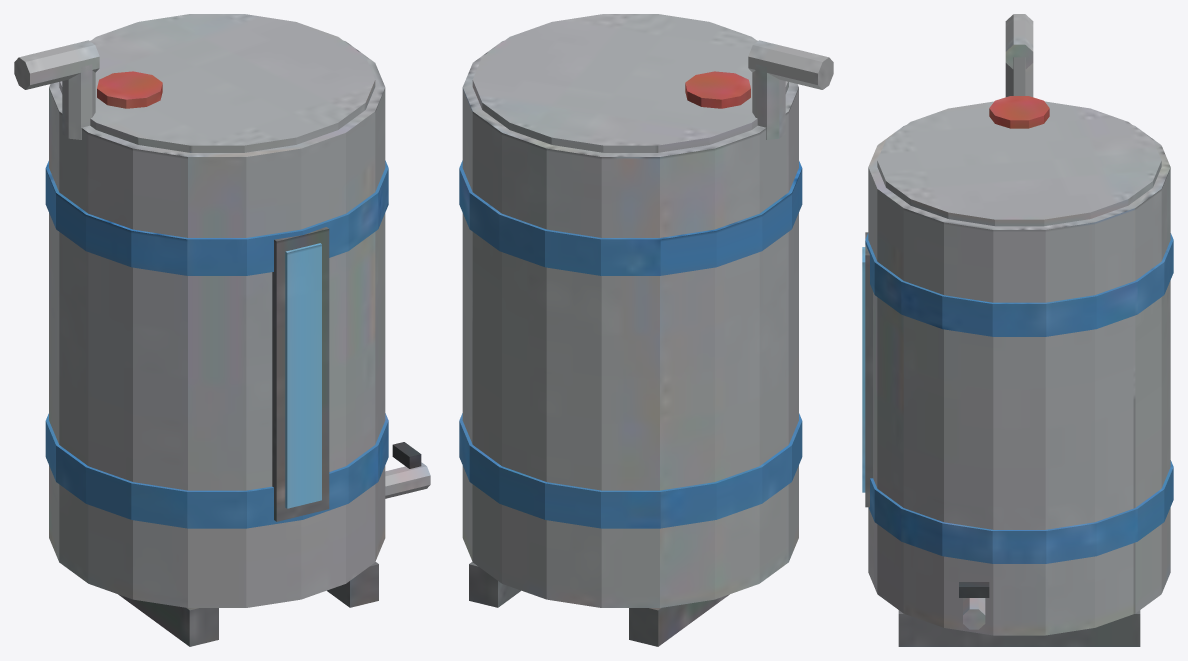
The model's file is water_tank_tex.glb.
3 renders of one model, left to right at view 1: azimuth 30°, elevation 25°; view 2: azimuth 150°, elevation 25°; view 3: azimuth 270°, elevation 25°, orthographic. The views are drawn at different scales.
Parts seen in each view (by area): view 1: water_tank_base; view 2: water_tank_base; view 3: water_tank_base.
Part boxes in pixels (x1=…): water_tank_base: x1=14, y1=14, x2=430, y2=646; water_tank_base: x1=459, y1=14, x2=833, y2=646; water_tank_base: x1=862, y1=14, x2=1173, y2=646.
Bounding box in the file's own units: 0.1619 × 0.2308 × 0.1287.
Materials: 1 (1 with a texture image).
